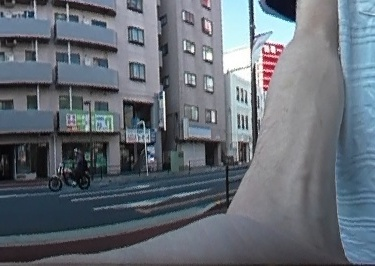person: (72, 149, 87, 185)
